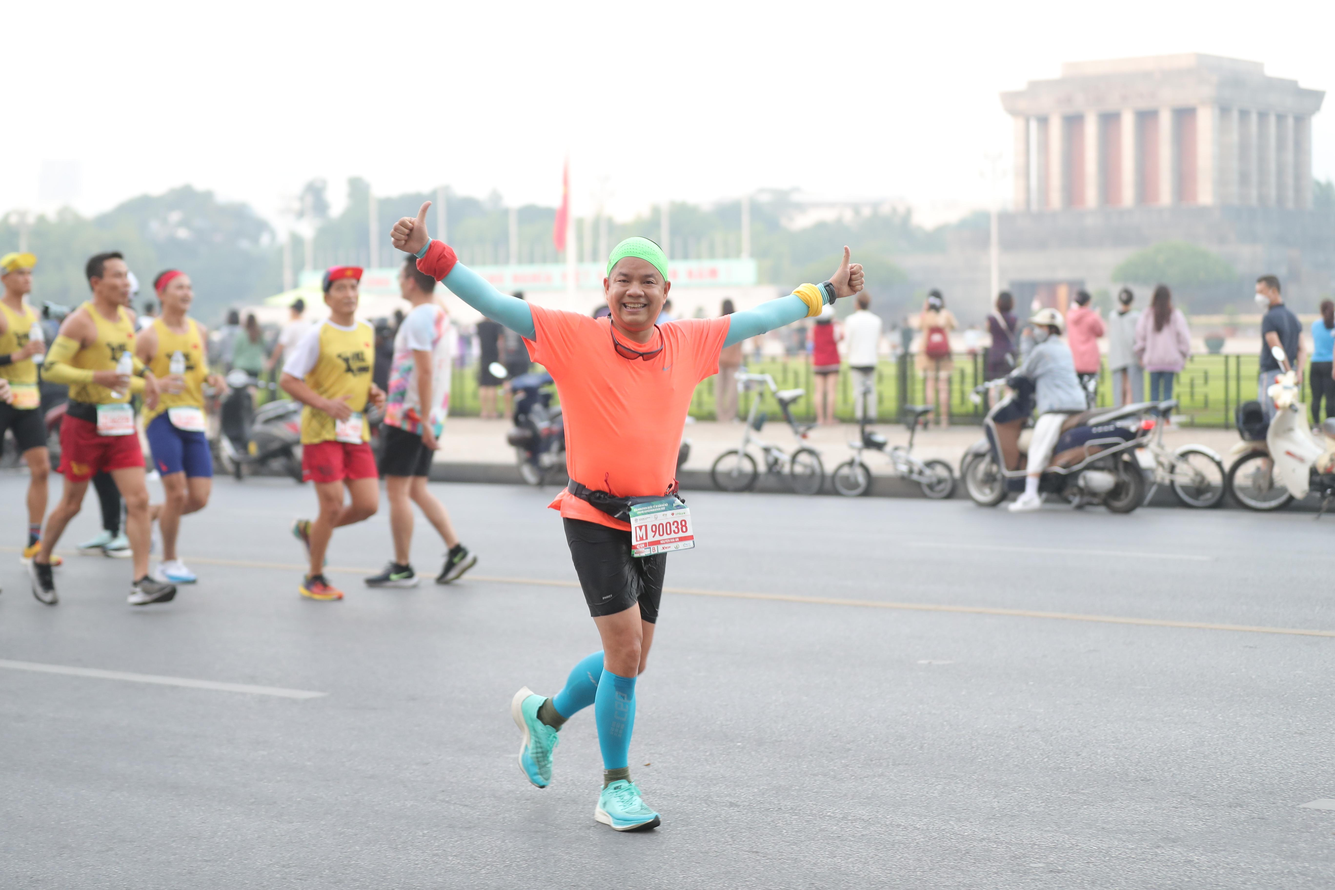bib: (627, 499, 695, 557), (97, 404, 135, 436), (335, 412, 365, 445), (169, 408, 203, 430)
